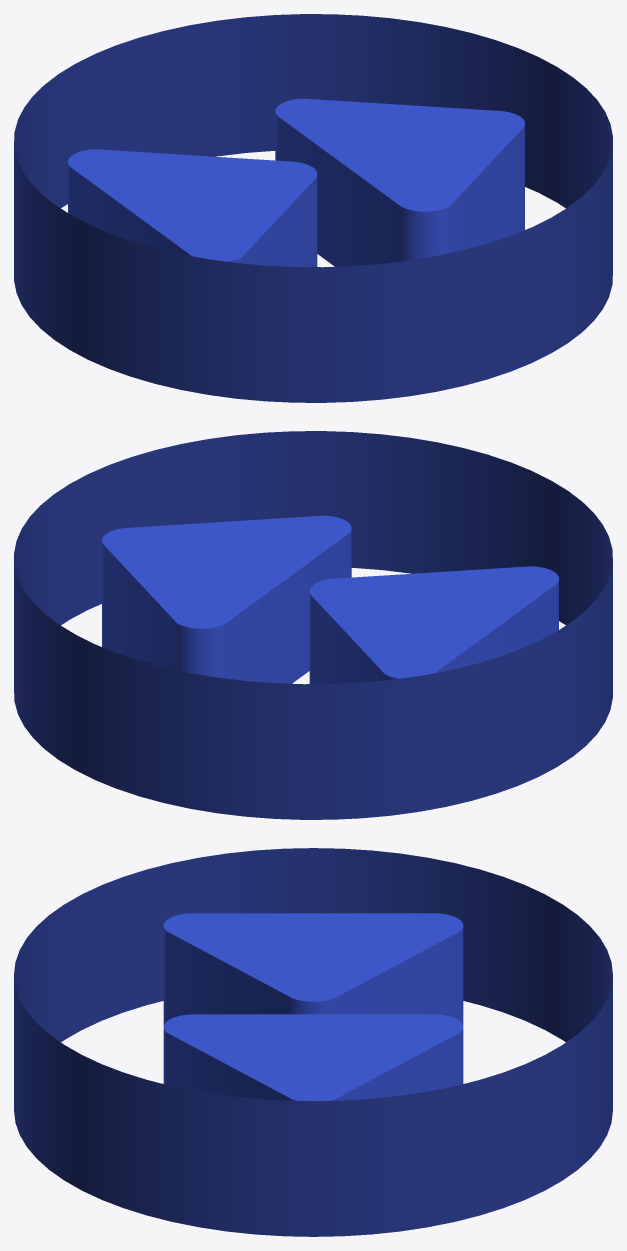
The model's file is pushtrap_r05.obj.
The picture shows the model from 3 angles, top to bottom: view 1: azimuth 30°, elevation 25°; view 2: azimuth 150°, elevation 25°; view 3: azimuth 270°, elevation 25°; orthographic projection.
Visible parts, largest first — view 1: pushtrap_r05; view 2: pushtrap_r05; view 3: pushtrap_r05.
Part boxes in pixels (x1,y1,x2,y2): pushtrap_r05: [14, 14, 612, 402]; pushtrap_r05: [14, 431, 612, 819]; pushtrap_r05: [14, 848, 612, 1236].
Bounding box in the file's own units: 1 × 0.25 × 1.
2 materials, 2 textured.
